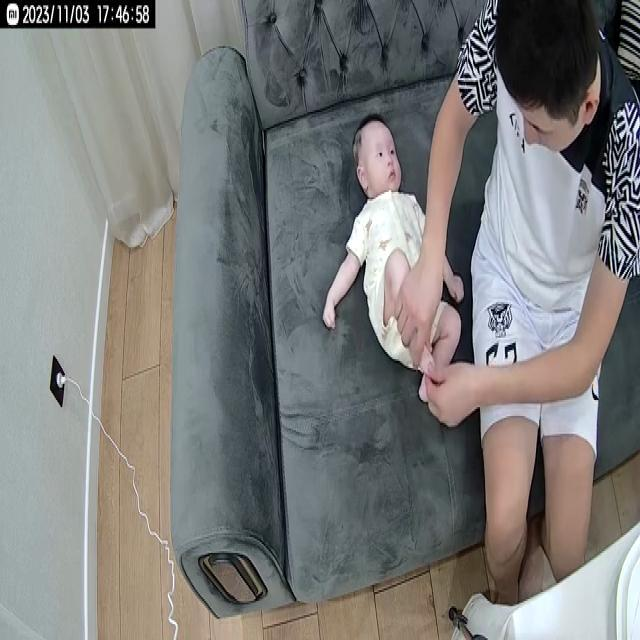baby: (322, 114, 466, 408)
